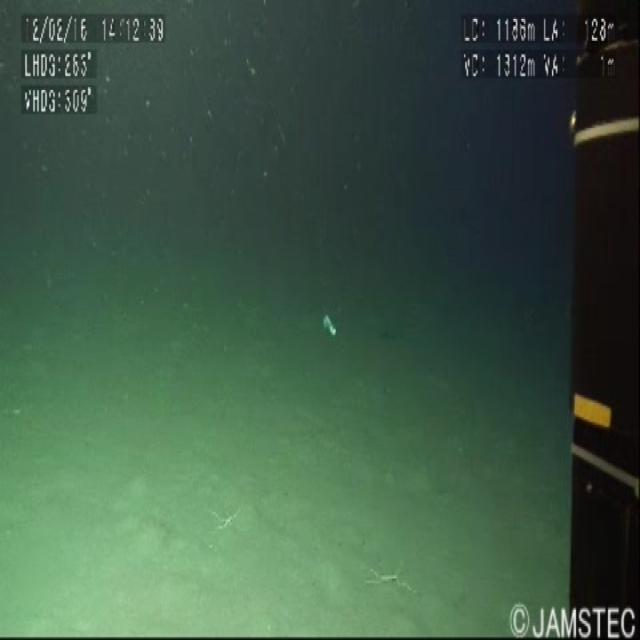Litter: (309, 291, 356, 369)
